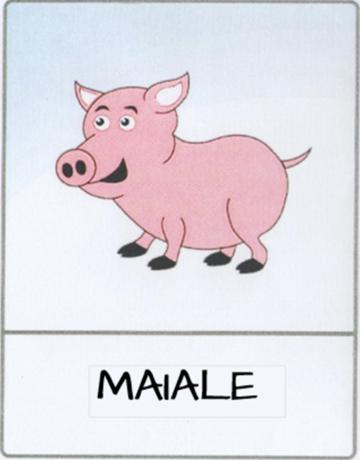maiale: (3, 2, 360, 460)
